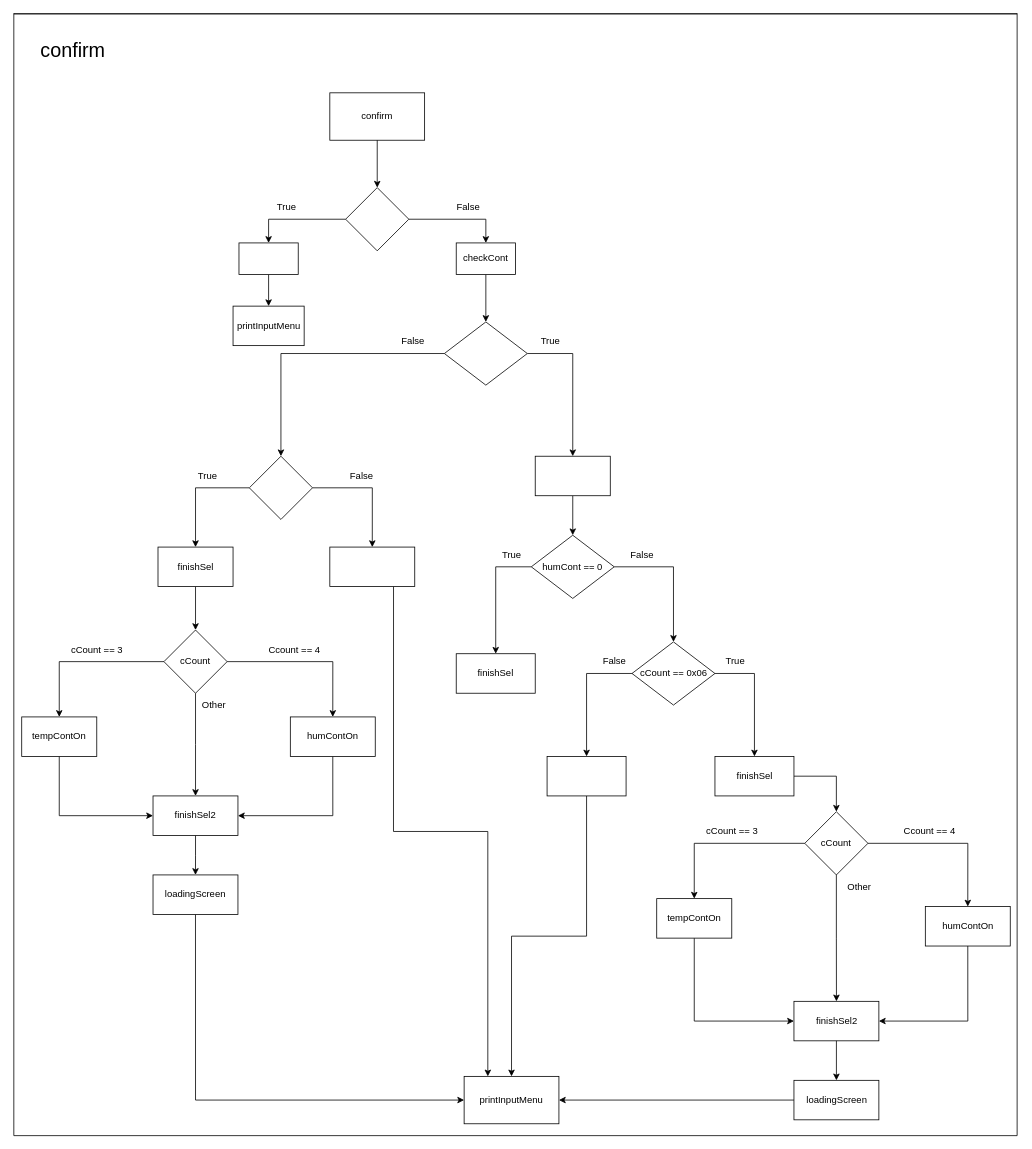
This 1032x1149 diagram has some shape labels left out. The shapes that lost their labels are listed below. From the top down, each one's centre as x and y in pixels, then its label:
point (377, 219): mCount == 0
point (268, 258): nextSel
point (485, 353): TempCont == 0
point (281, 487): cCount == 5
point (572, 475): checkCont2
point (372, 566): printContTempOn
point (586, 776): printContHumOn
